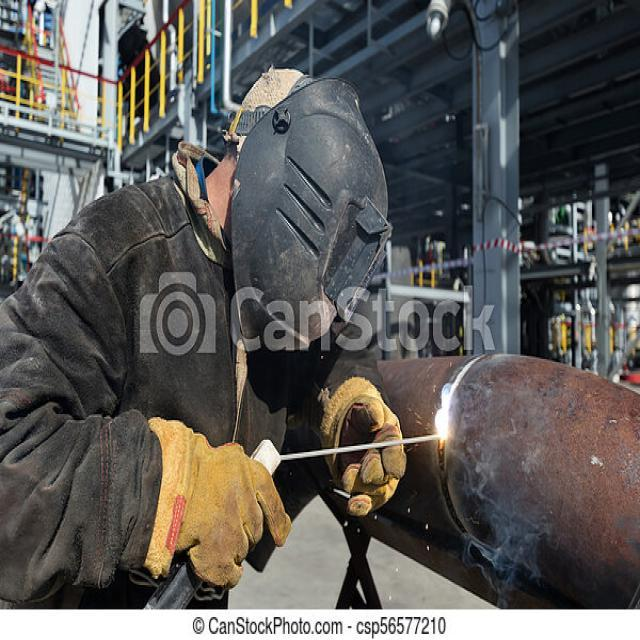with_helmet: (231, 79, 391, 349)
